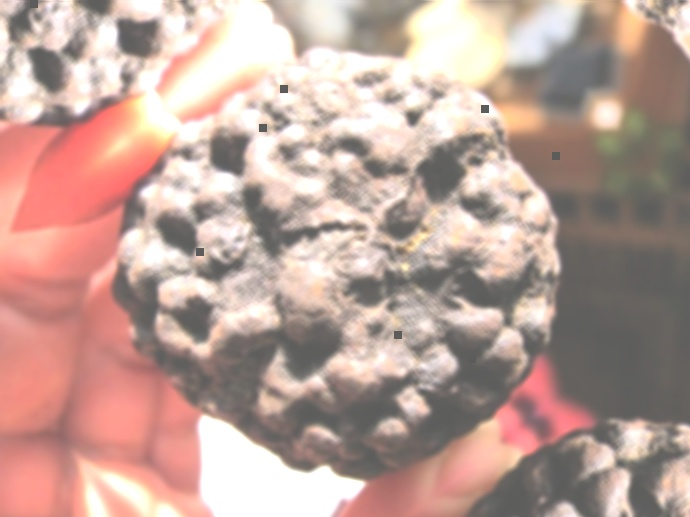halobolite: (104, 62, 540, 485)
